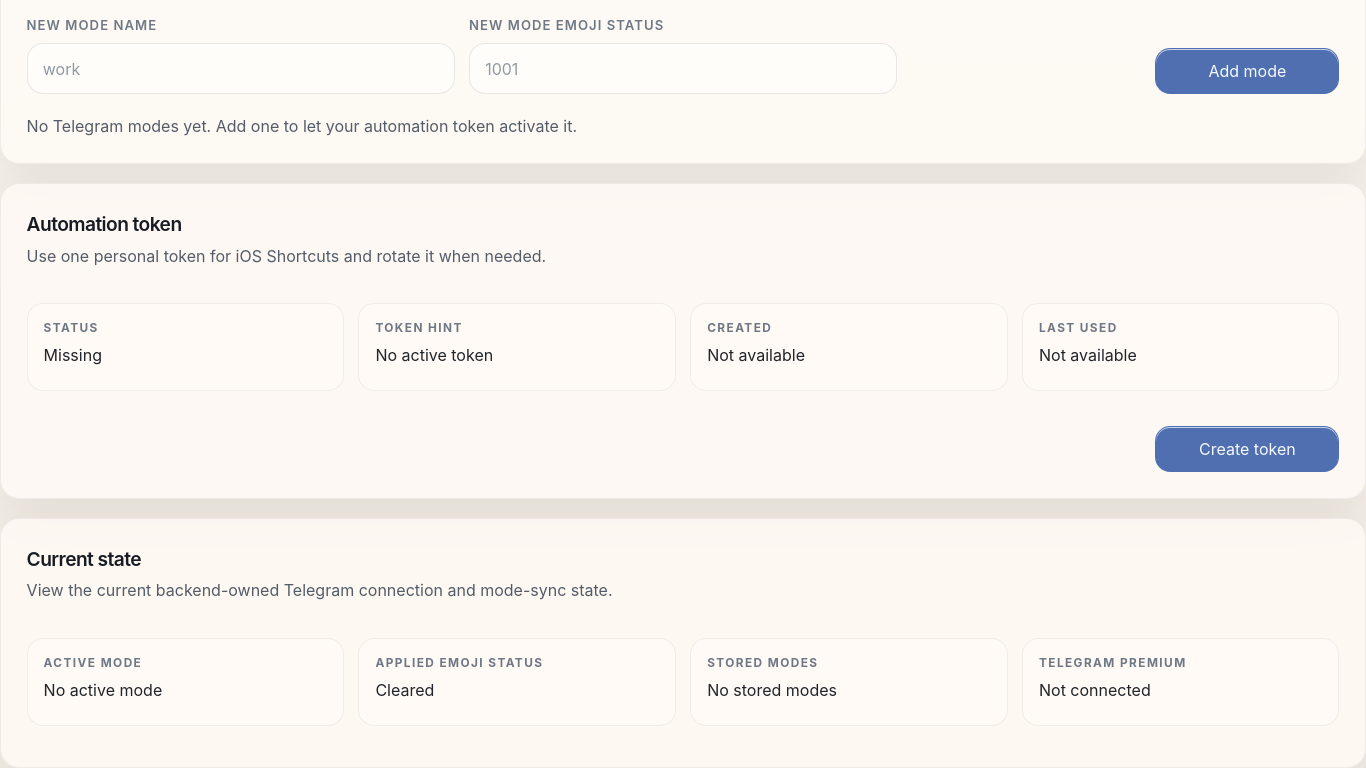
TelegramSettingsSection › shows the raw automation token once after creation and supports copy
(page scrolled)
Click the button "Create token": (1247, 449) x1=1155 y1=426 x2=1339 y2=472
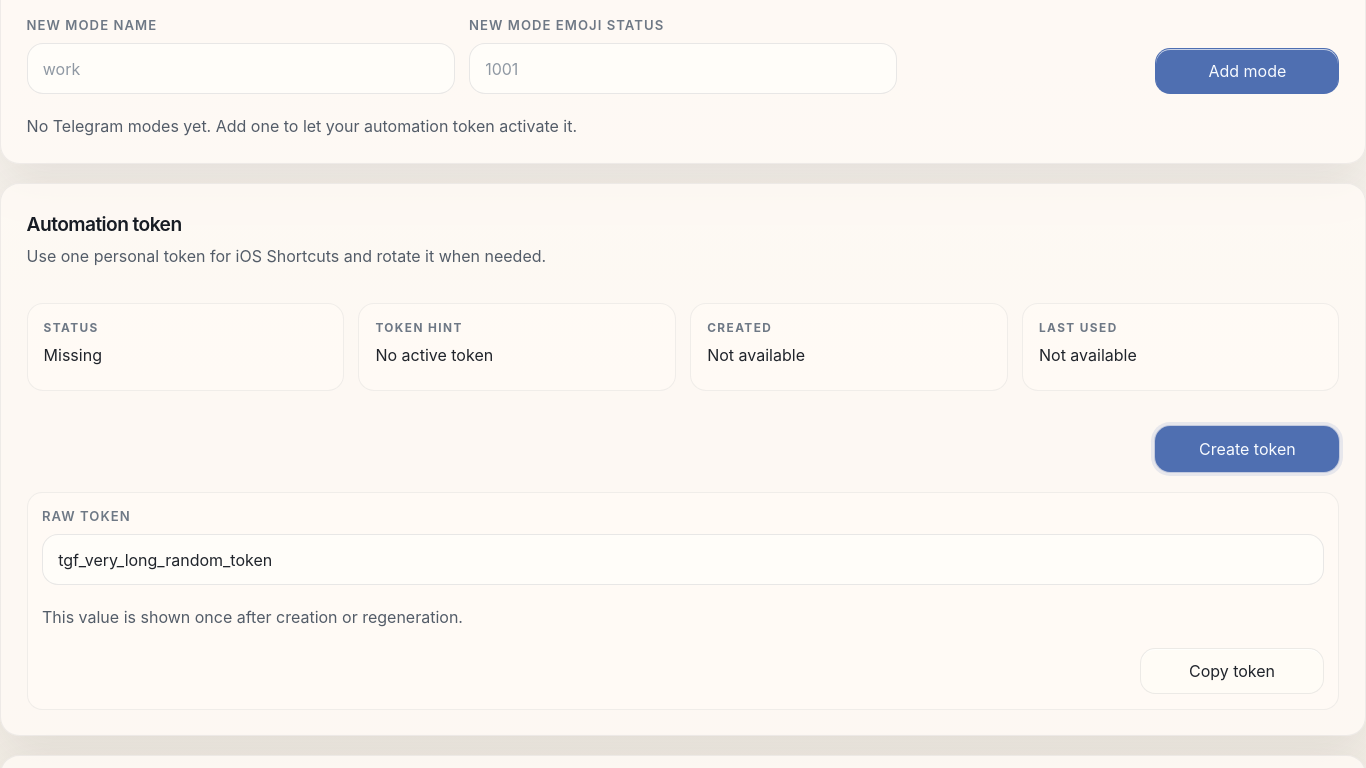
Expected: the field showing "tgf_very_long_random_token" is shown, x1=42 y1=534 x2=1324 y2=586
Click the button "Copy token": (1232, 671) x1=1140 y1=648 x2=1324 y2=694
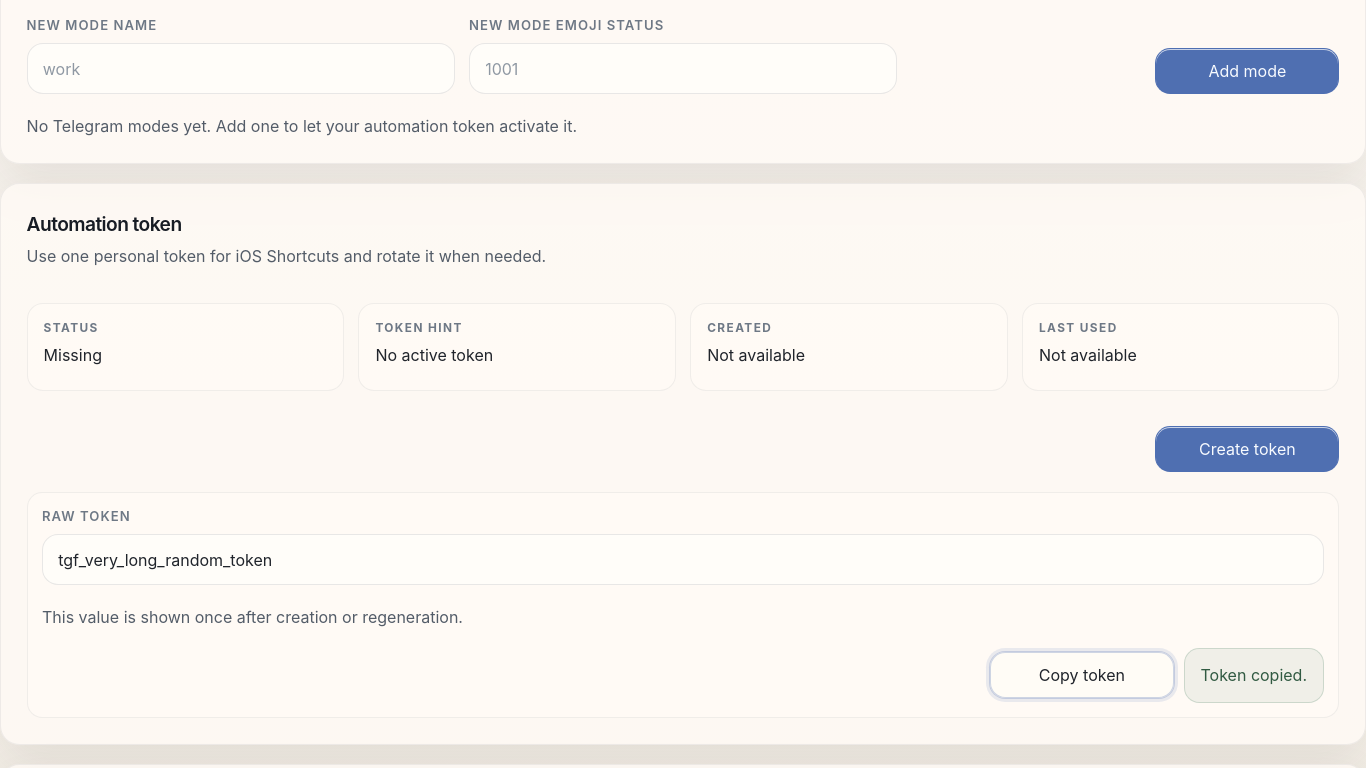
Expected: the text "Token copied." is shown, x1=1184 y1=648 x2=1324 y2=703
